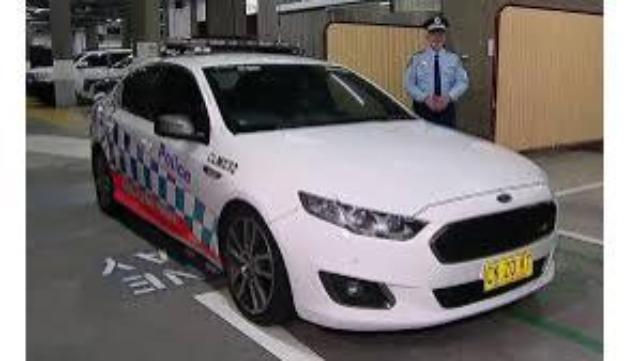police: (88, 39, 559, 336)
